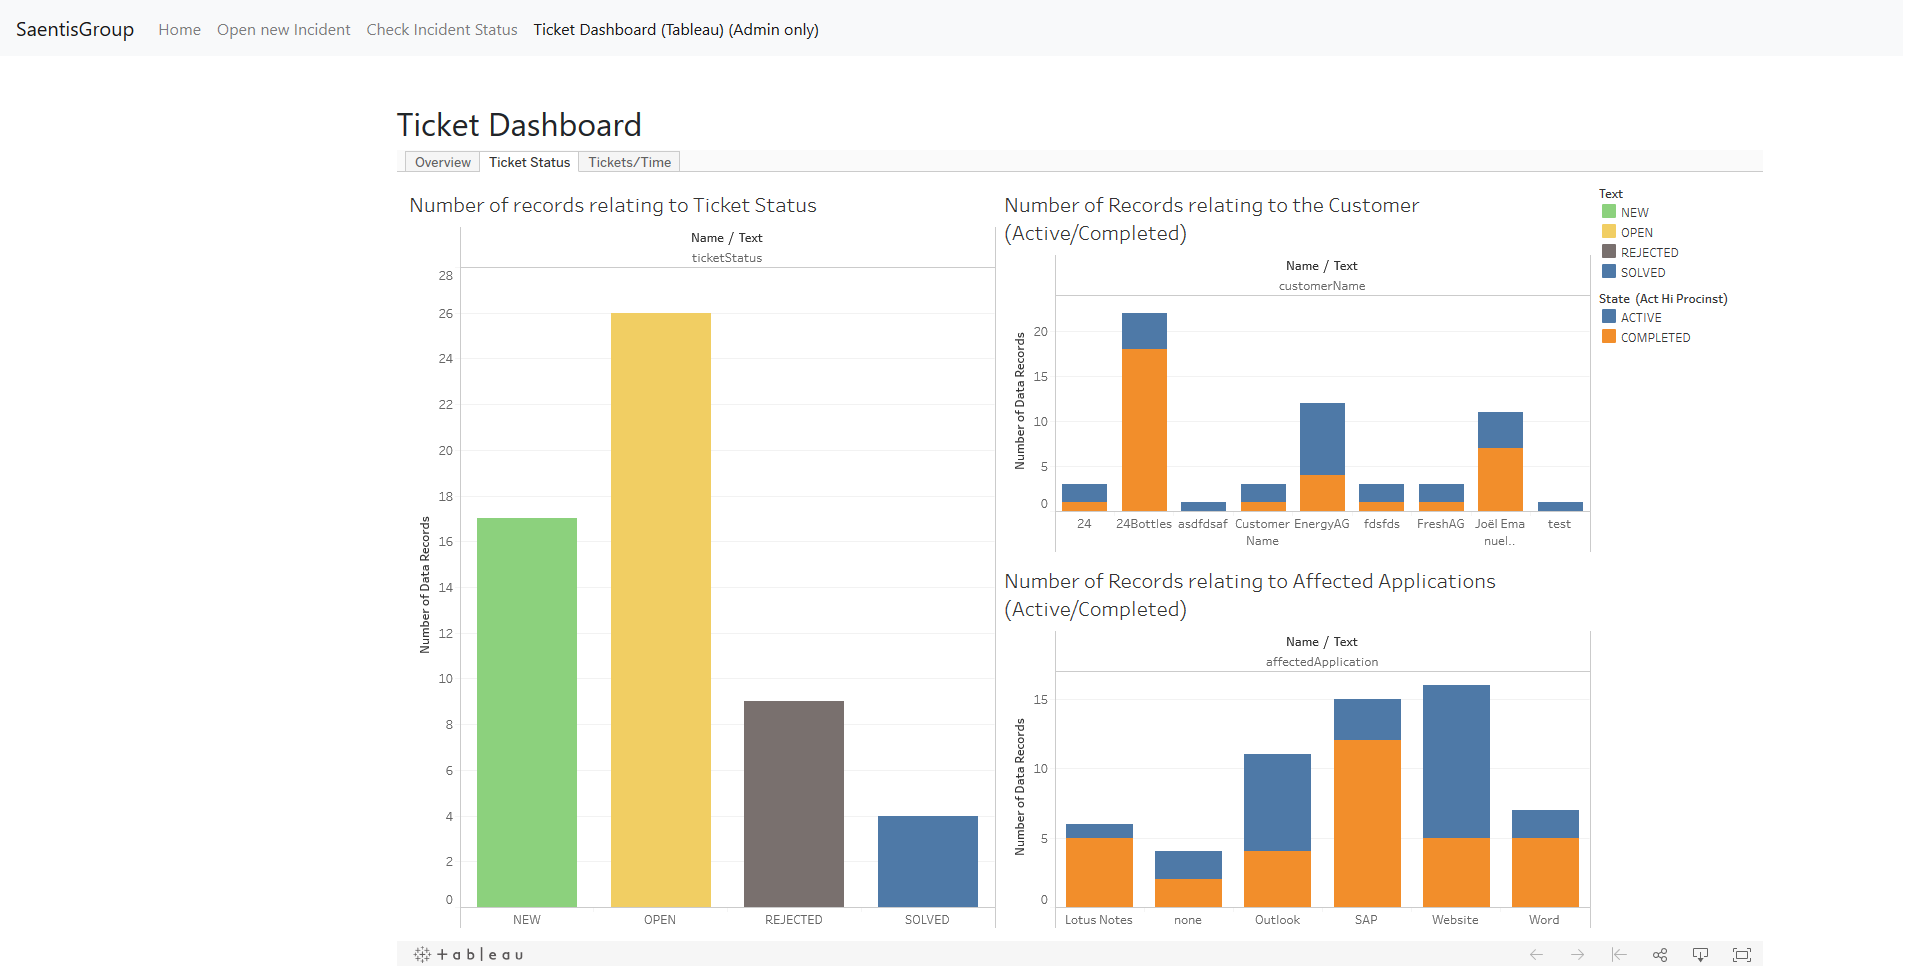

The dashboard page shown, as its layout file describes it:
{"tool":"tableau","page":{"name":"Ticket Status","canvas":[1366,768],"ordinal":1},"visuals":[{"type":"worksheet","title":"Number of records relating to Ticket Status","mark":"Automatic","rows":["Number of Records"],"cols":["name_","text_"],"box":[8,8,595,752]},{"type":"worksheet","title":"Number of Records relating to the Customer (Active/Completed)","mark":"Automatic","rows":["Number of Records"],"cols":["name_","text_"],"box":[603,8,595,376]},{"type":"legend","title":"Number of records relating to Ticket Status","param":"[federated.0r7vbwe0kou0w81d6x1o80aafghp].[none:text_:nk]","box":[1198,8,160,106]},{"type":"legend","title":"Number of Records relating to the Customer (Active/Completed)","param":"[federated.0r7vbwe0kou0w81d6x1o80aafghp].[none:state_ (act_hi_procinst):nk]","box":[1198,114,160,66]},{"type":"worksheet","title":"Number of Records relating to Affected Applications (Active/Completed)","mark":"Automatic","rows":["Number of Records"],"cols":["name_","text_"],"box":[603,384,595,376]}]}

Visuals, with their boxes on the page's 1366x768 design canvas (x1, y1, x2, y2). These are canvas units, not pixel positions in the 1920x966 screenshot, which may show the page scaled, cropped or inside an application window:
"Number of records relating to Ticket Status" worksheet: <bbox>8, 8, 603, 760</bbox>
"Number of Records relating to the Customer (Active/Completed)" worksheet: <bbox>603, 8, 1198, 384</bbox>
"Number of records relating to Ticket Status" legend: <bbox>1198, 8, 1358, 114</bbox>
"Number of Records relating to the Customer (Active/Completed)" legend: <bbox>1198, 114, 1358, 180</bbox>
"Number of Records relating to Affected Applications (Active/Completed)" worksheet: <bbox>603, 384, 1198, 760</bbox>
